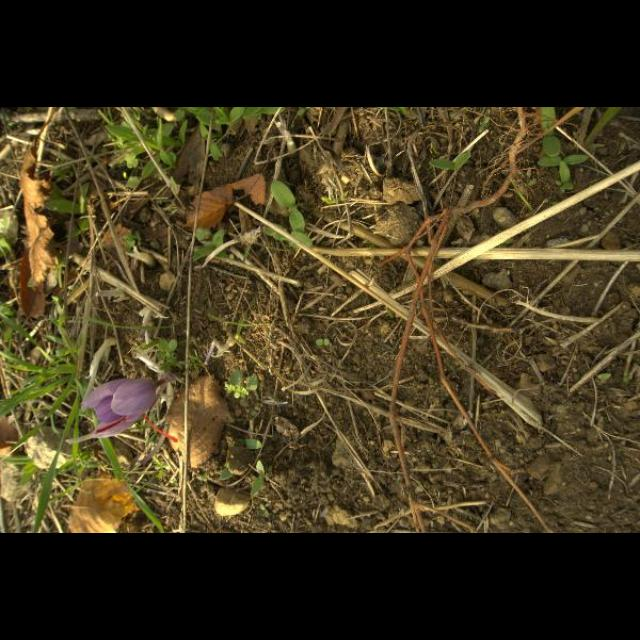flower: (84, 378, 180, 442)
